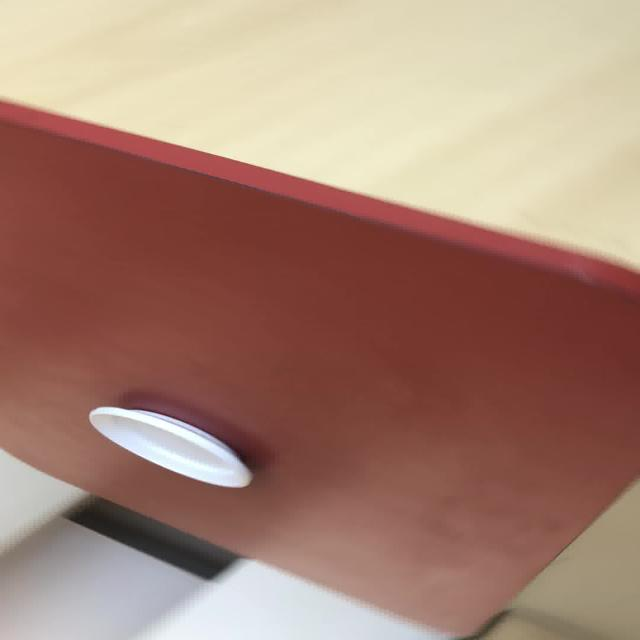plate: (1, 95, 637, 638), (87, 405, 253, 488)
